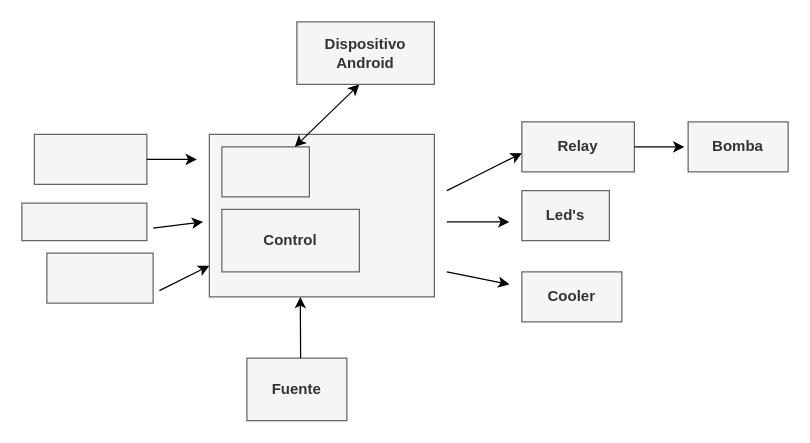
Some shapes in this 810 by 443 pixel diagram are drawn without their labels. The shapes that lost their labels are listed below. From the top down, each one's centre as x and y in pixels, then its label:
At point (90, 158): "Sensor Temperatura".
At point (265, 171): "BT".
At point (84, 221): "Sensor Humedad Suelo".
At point (99, 277): "Sensor Intensidad Luz".
